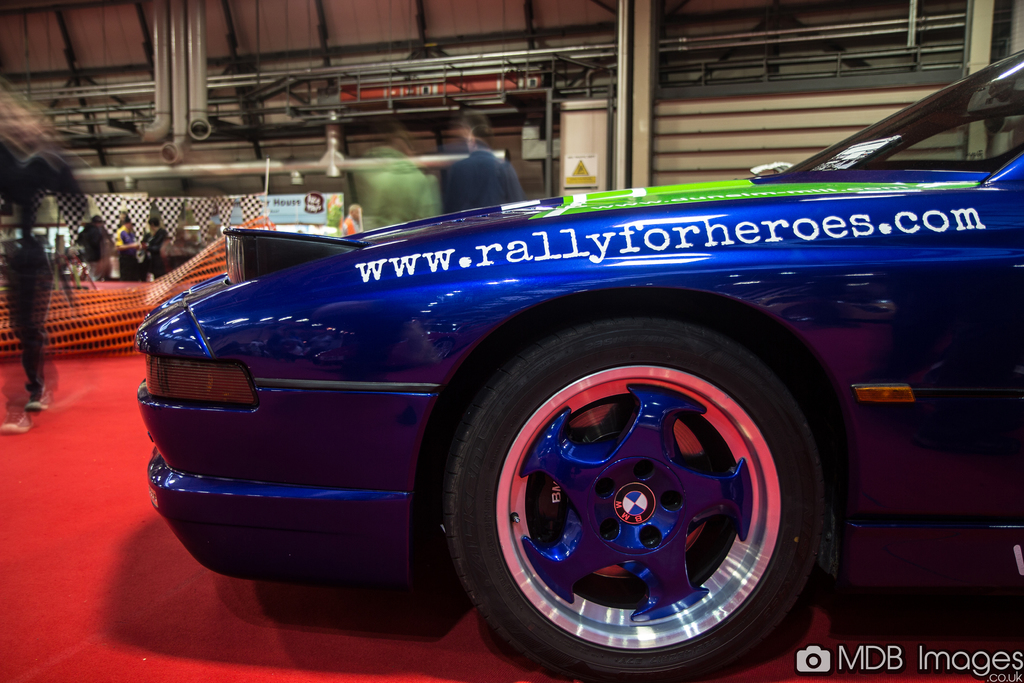cars: (133, 40, 1023, 682)
